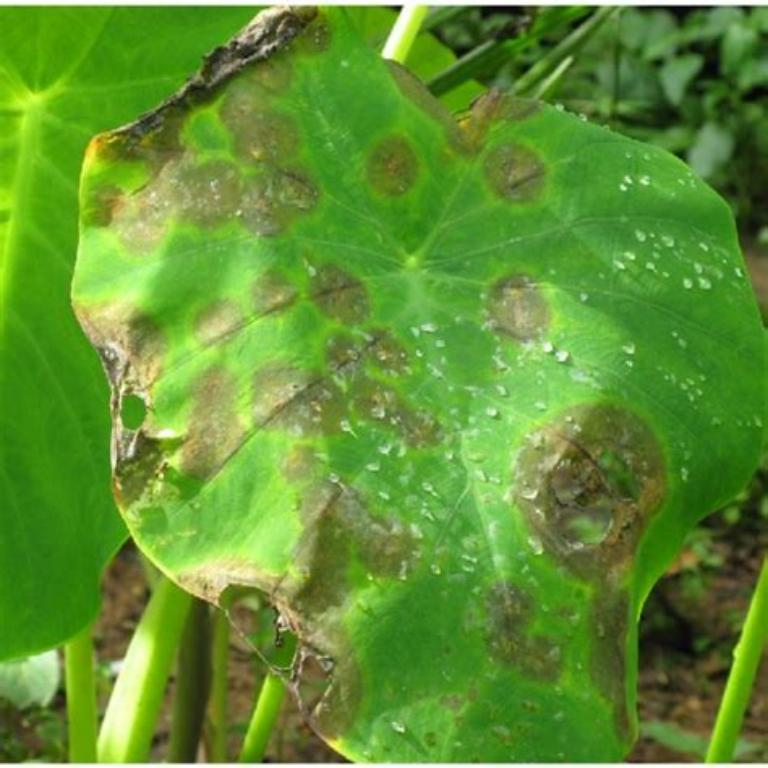blight: (510, 385, 672, 565)
